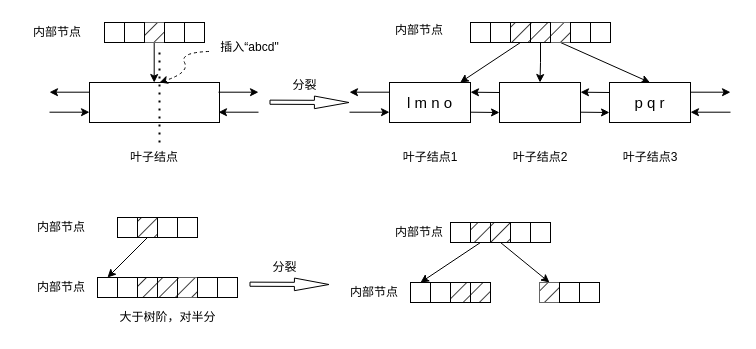
The diagram is 756 pixels wide and 349 high, and some of its shapes have lost their labels. Here are the shapes that lost their labels. From the top down, the centre of each, then its label:
At (x=154, y=102): "l m n o p q r".
At (x=539, y=102): "a b c d".
